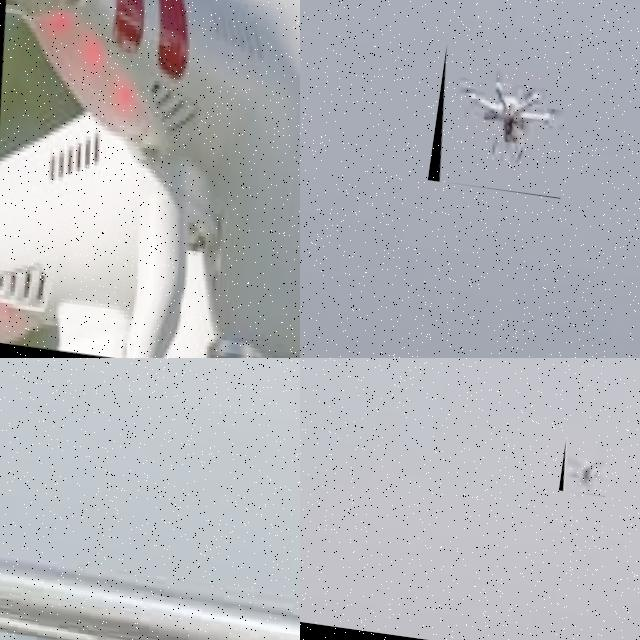drone: (0, 0, 300, 358), (428, 44, 580, 199), (558, 437, 612, 497)
